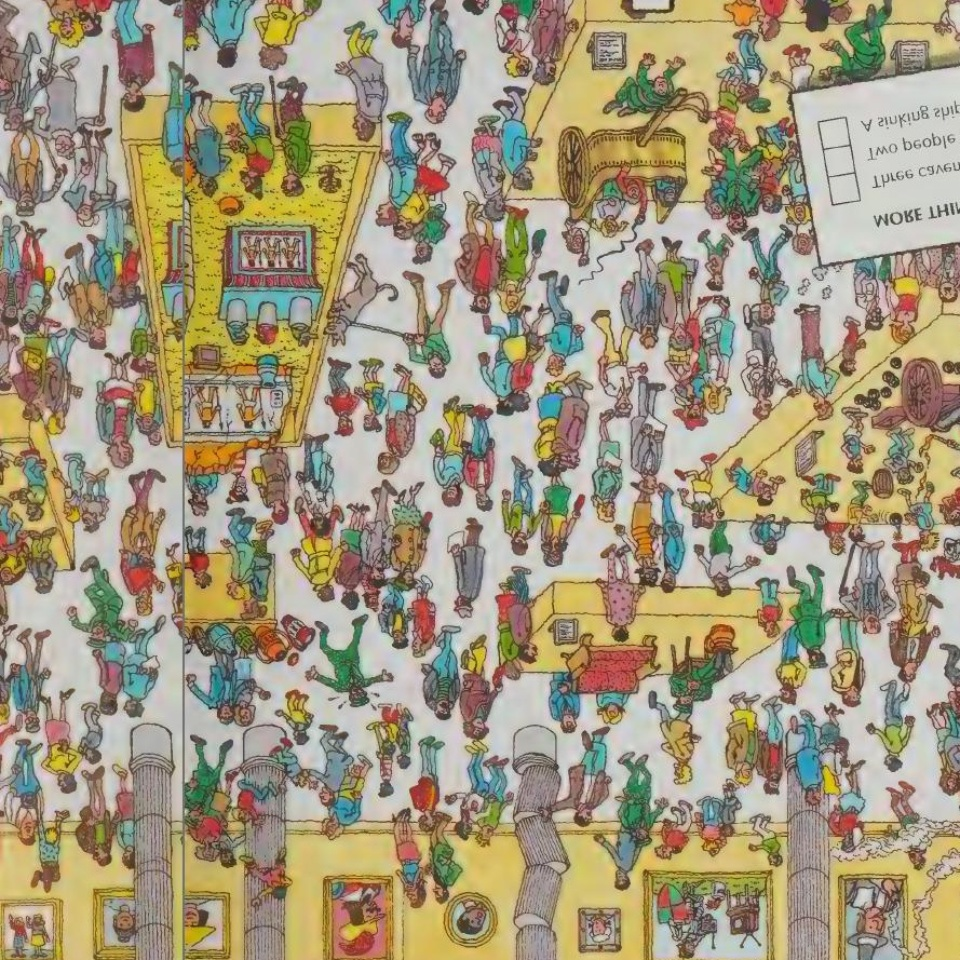waldo: (227, 458, 251, 503)
